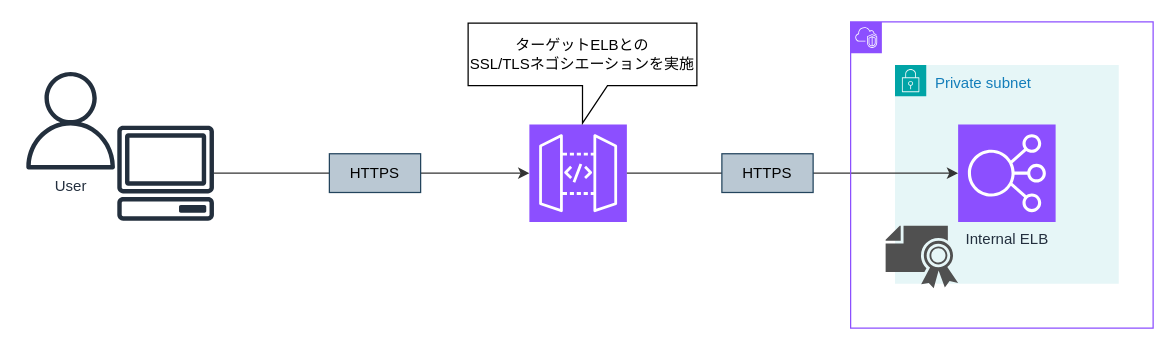
Some shapes in this 1175 by 350 pixel diagram are drawn without their labels. The box of each missing label's shape, as (x1, y1, x2, y2) in pixels:
API Gatway: (528, 123, 627, 222)
Server Certificate: (885, 225, 958, 288)
VPC: (849, 21, 1153, 328)
